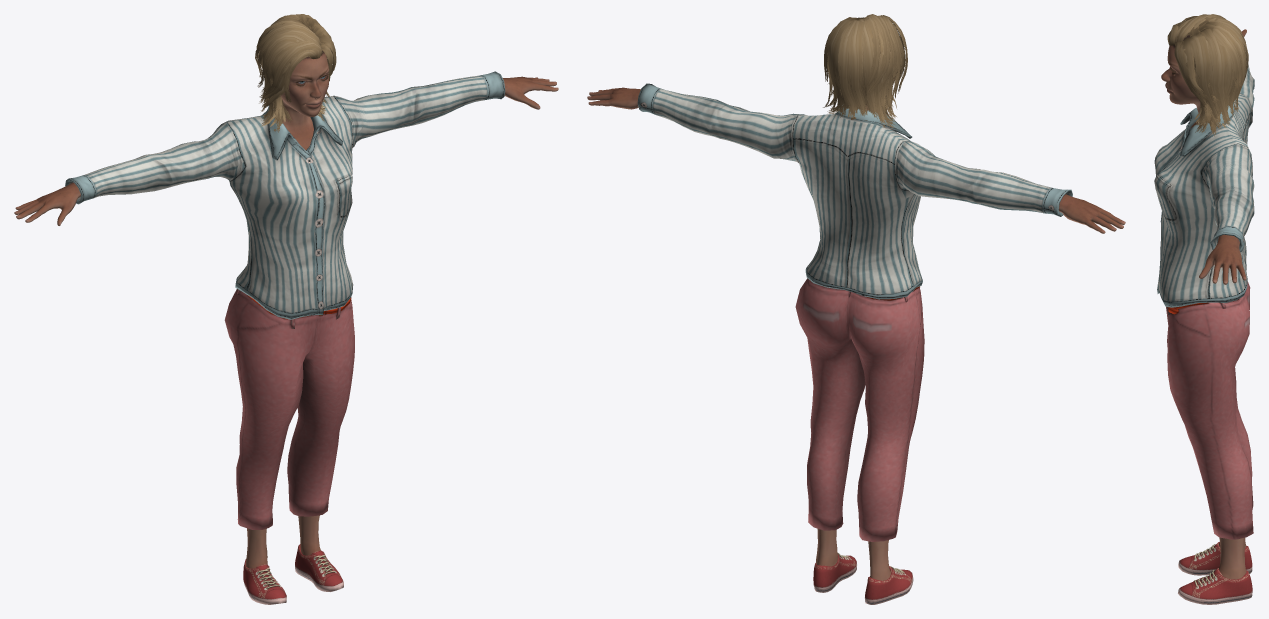
Rendered from woman2.obj.
3 views of the same model, side by side, from view 1: azimuth 30°, elevation 25°; view 2: azimuth 150°, elevation 25°; view 3: azimuth 270°, elevation 25° (orthographic).
Visible parts, largest first — view 1: Tops, Bottoms, Body, Hair, Shoes; view 2: Tops, Bottoms, Hair, Body, Shoes; view 3: Tops, Bottoms, Hair, Body, Shoes.
Boxes of the visible parts, x1,y1,x2,y2 form: Tops: (65,71,505,319); Bottoms: (224,289,354,529); Body: (14,50,558,568); Hair: (255,14,336,132); Shoes: (243,544,343,604); Tops: (637,83,1072,299); Bottoms: (795,278,924,541); Hair: (823,14,907,127); Body: (587,78,1125,580); Shoes: (813,553,913,604); Tops: (1154,65,1254,307); Bottoms: (1166,281,1253,539); Hair: (1167,14,1248,136); Body: (1161,26,1246,579); Shoes: (1178,542,1252,604).
Size of the model in its own units: 179 by 181 by 29.06.
1 material, 1 textured.
